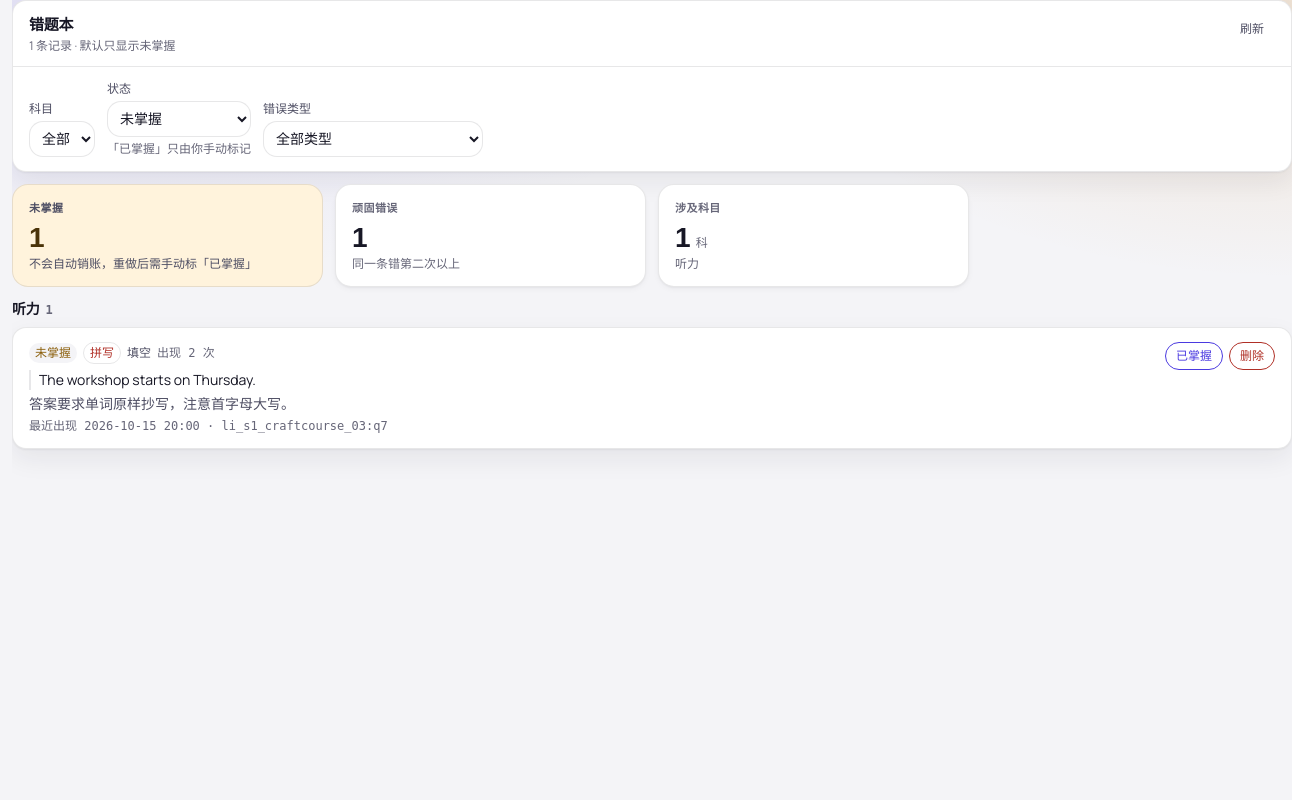
Test: AC-V2 默认视图与筛选 › 未掌握/已掌握两个计数按当前列表如实统计
The width and height of the screenshot is (1292, 800).
expect the text "The workshop starts on Thursday." is shown: met, box [29,370,1153,390]
默认视图只有未掌握那一条 → 切到「全部」才能同时看到两类，计数才可比。
Select "全部" in the dropdown labelled "状态". click: (179, 119)
box: [107,101,251,137]
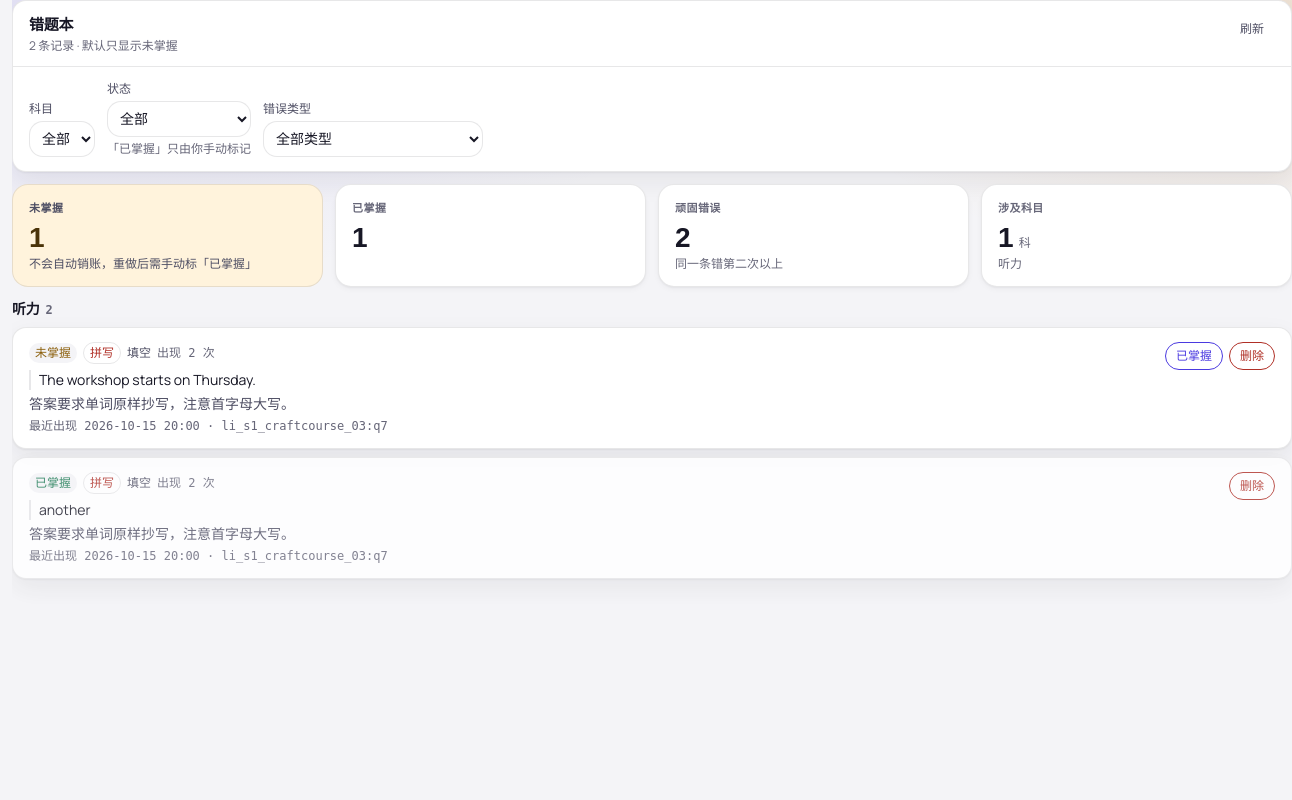
expect the 1st text "1" is shown: met, box [29,224,44,252]
expect the text "another" is shown: met, box [29,500,1217,520]
